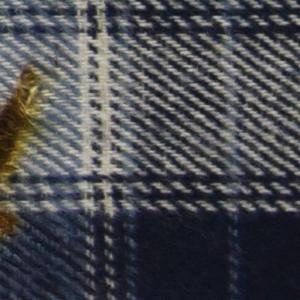Damage: (1, 67, 38, 170)
Oil Stain: (1, 62, 46, 191), (1, 194, 24, 240)
